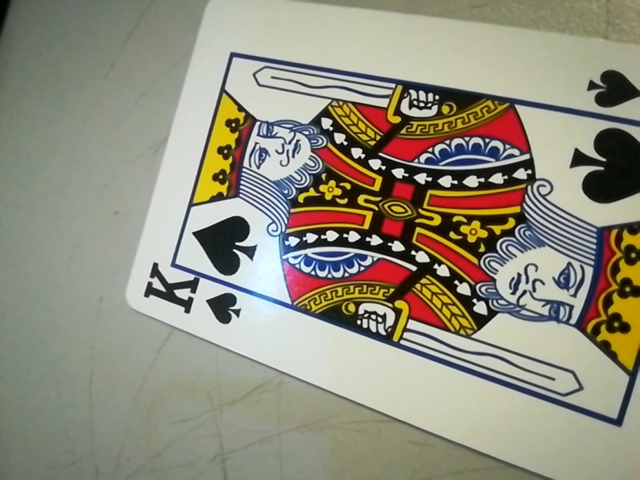ht k: (121, 259, 254, 336)
